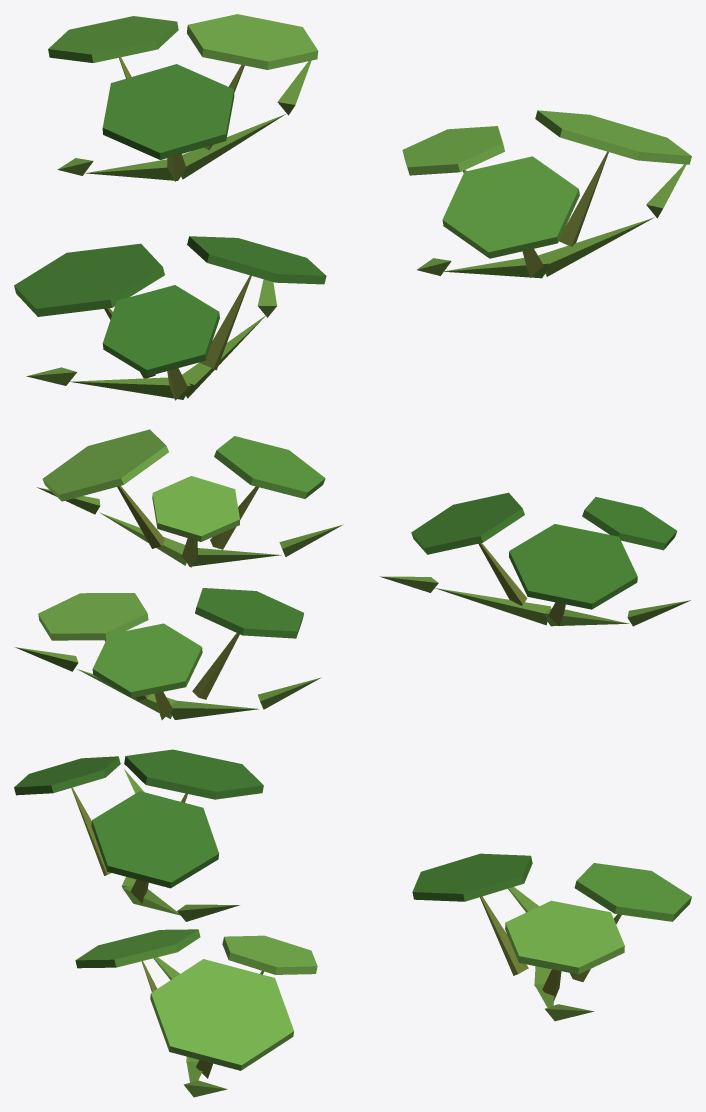
File: pumpkin-2.glb
3 renders of one model, top to bottom at view 1: azimuth 30°, elevation 25°; view 2: azimuth 150°, elevation 25°; view 3: azimuth 270°, elevation 25°, orthographic. The views are drawn at different scales.
Parts seen in each view (by area): view 1: pumpkin-2; view 2: pumpkin-2; view 3: pumpkin-2.
Part boxes in pixels (left/top/right/bottom): pumpkin-2: left=14, top=14, right=691, bottom=400; pumpkin-2: left=14, top=429, right=690, bottom=719; pumpkin-2: left=14, top=749, right=691, bottom=1097.
Bounding box in the file's own units: 0.7393 × 0.1381 × 0.6596.
Materials: 1 (1 with a texture image).
